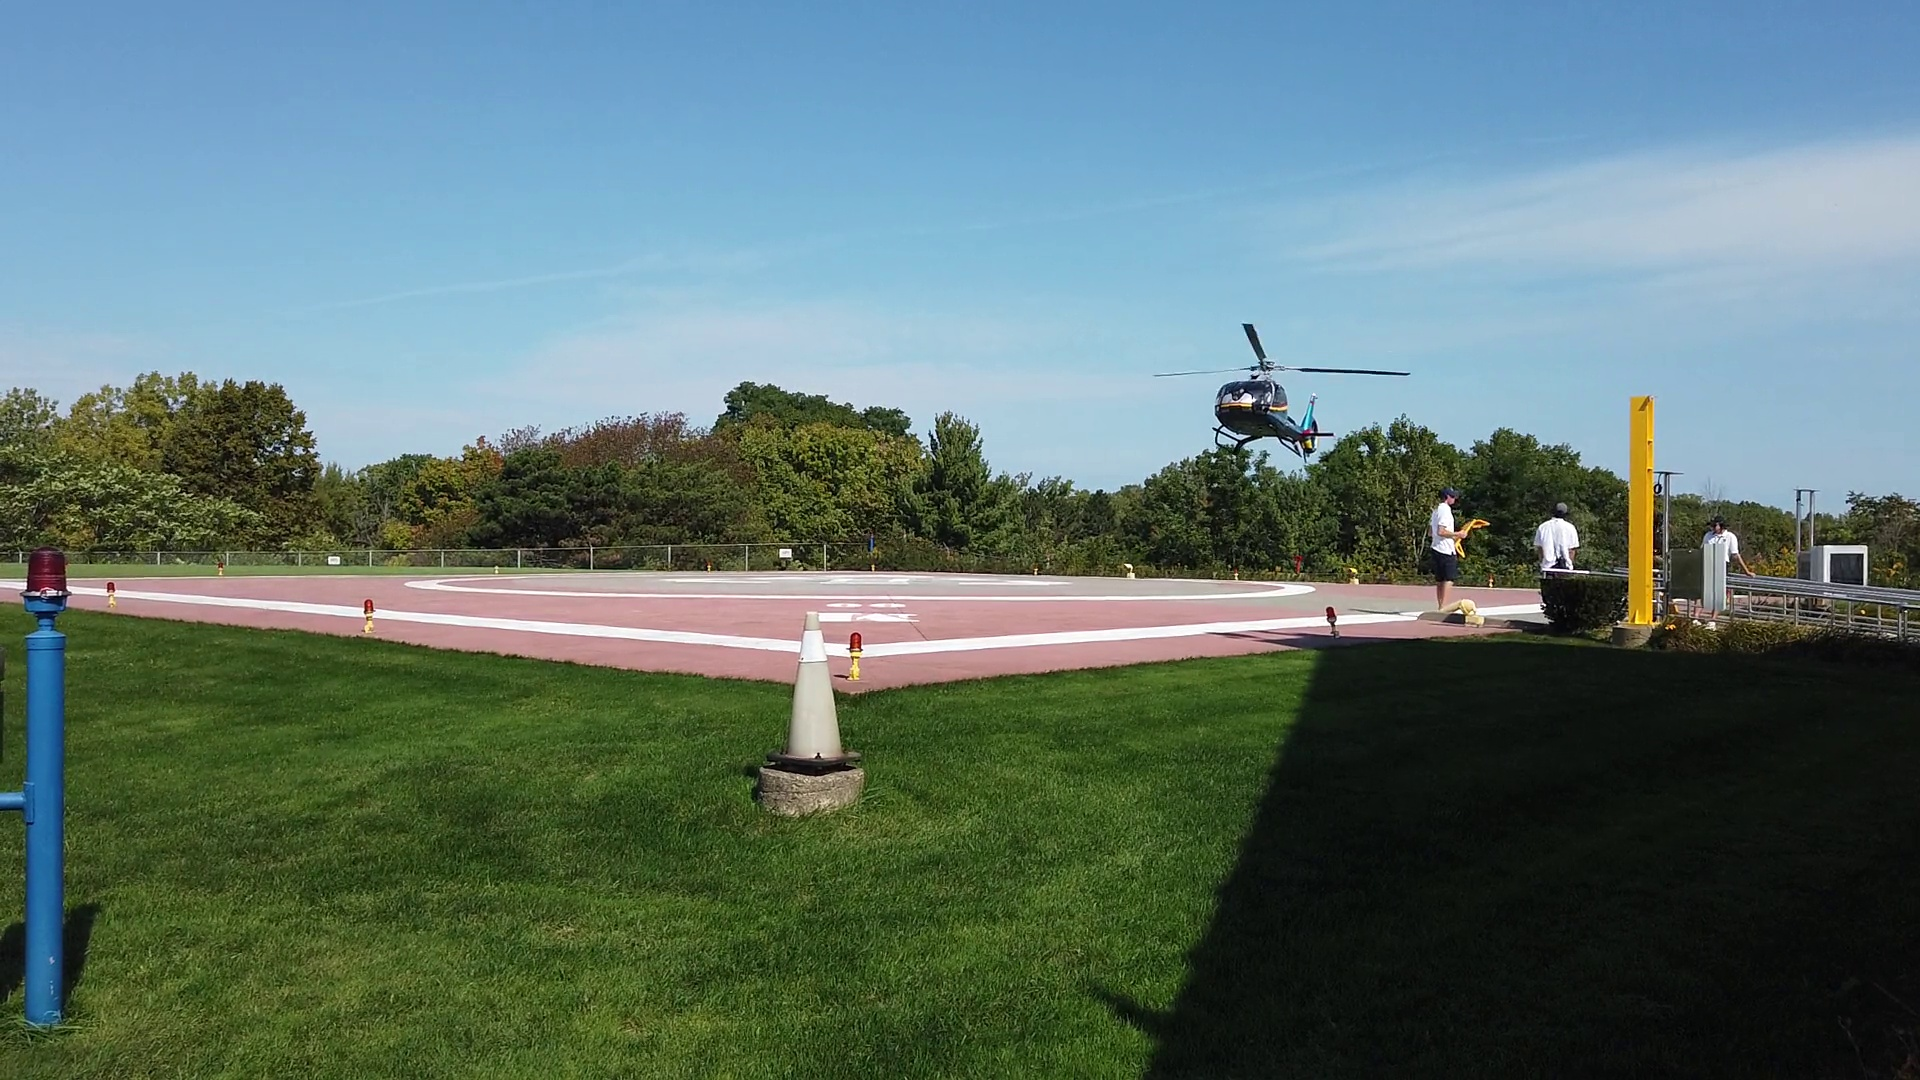heli: (1153, 324, 1412, 458)
